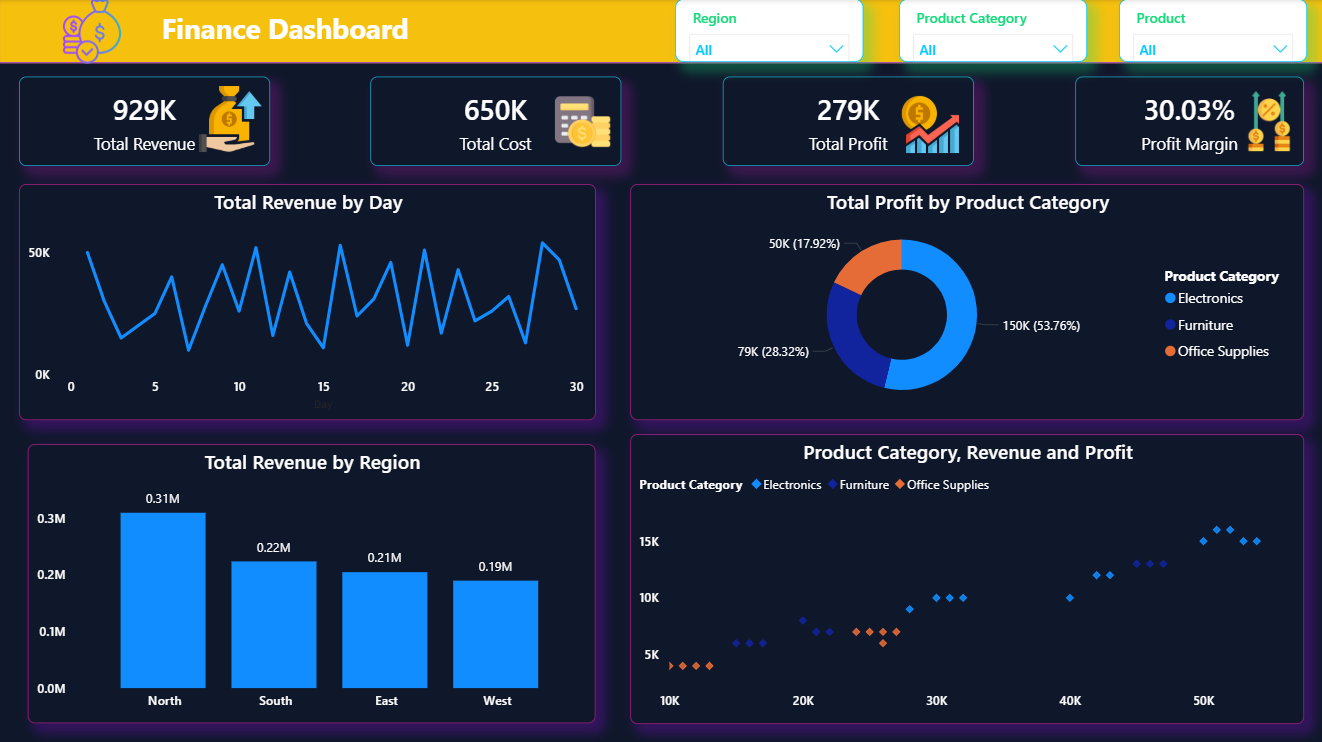

Layout of this report page (visuals, bound fields, positions):
{"tool":"powerbi","page":{"name":"Financial Overview","canvas":[1280,720],"ordinal":0},"visuals":[{"type":"card","fields":{"Values":["Measure.Total Revenue"]},"box":[18.8,75,242.4,86.6],"z":0},{"type":"card","fields":{"Values":["Measure.Total Cost"]},"box":[358.9,75,242,86.6],"z":1000},{"type":"card","fields":{"Values":["Measure.Total Profit"]},"box":[698.6,75,242.4,86.6],"z":2000},{"type":"card","fields":{"Values":["Measure.Profit Margin"]},"box":[1038.8,75,220.7,86.6],"z":3000},{"type":"lineChart","fields":{"Category":["Finance.Date.Variation.Date Hierarchy.Day"],"Y":["Measure.Total Revenue"]},"box":[18.8,178.9,556.9,228],"z":4000},{"type":"donutChart","fields":{"Category":["Finance.Product Category"],"Y":["Measure.Total Profit"]},"box":[608.8,178.9,650.7,228],"z":5000},{"type":"clusteredColumnChart","fields":{"Category":["Finance.Region"],"Y":["Measure.Total Revenue"]},"box":[27.4,429.9,548.2,269.8],"z":6000},{"type":"scatterChart","fields":{"X":["Finance.Revenue"],"Y":["Finance.Profit"],"Series":["Finance.Product Category"]},"box":[608.8,419.8,650.7,279.9],"z":7000},{"type":"shape","box":[0,0,1279.7,62],"z":8000},{"type":"textbox","box":[151.5,4.3,457.4,51.9],"z":9000},{"type":"slicer","fields":{"Values":["Finance.Region"]},"box":[652.1,0,181.8,60.6],"z":10000},{"type":"slicer","fields":{"Values":["Finance.Product Category"]},"box":[868.5,0,181.8,60.6],"z":11000},{"type":"slicer","fields":{"Values":["Finance.Product"]},"box":[1080.6,0,181.8,60.6],"z":12000},{"type":"image","box":[27.4,0,124.1,62],"z":13000},{"type":"image","box":[535.3,66.4,54.8,103.9],"z":13001},{"type":"image","box":[1171.5,89.5,108.2,57.7],"z":13002},{"type":"image","box":[861.3,89.5,79.4,67.8],"z":13003},{"type":"image","box":[183.2,66.4,77.9,103.9],"z":13004}]}

Visuals, with their boxes in screenshot pixels (x1, y1, x2, y2), scaled from the page's 1280x720 canvas onto the 1322x742 screenshot:
card - Measure.Total Revenue: [left=19, top=77, right=270, bottom=167]
card - Measure.Total Cost: [left=371, top=77, right=621, bottom=167]
card - Measure.Total Profit: [left=722, top=77, right=972, bottom=167]
card - Measure.Profit Margin: [left=1073, top=77, right=1301, bottom=167]
lineChart - Finance.Date.Variation.Date Hierarchy.Day x Measure.Total Revenue: [left=19, top=184, right=595, bottom=419]
donutChart - Finance.Product Category x Measure.Total Profit: [left=629, top=184, right=1301, bottom=419]
clusteredColumnChart - Finance.Region x Measure.Total Revenue: [left=28, top=443, right=594, bottom=721]
scatterChart - Finance.Revenue x Finance.Profit: [left=629, top=433, right=1301, bottom=721]
shape: [left=0, top=0, right=1321, bottom=64]
textbox: [left=156, top=4, right=629, bottom=58]
slicer - Finance.Region: [left=673, top=0, right=861, bottom=62]
slicer - Finance.Product Category: [left=897, top=0, right=1085, bottom=62]
slicer - Finance.Product: [left=1116, top=0, right=1304, bottom=62]
image: [left=28, top=0, right=156, bottom=64]
image: [left=553, top=68, right=609, bottom=176]
image: [left=1210, top=92, right=1321, bottom=152]
image: [left=890, top=92, right=972, bottom=162]
image: [left=189, top=68, right=270, bottom=176]
